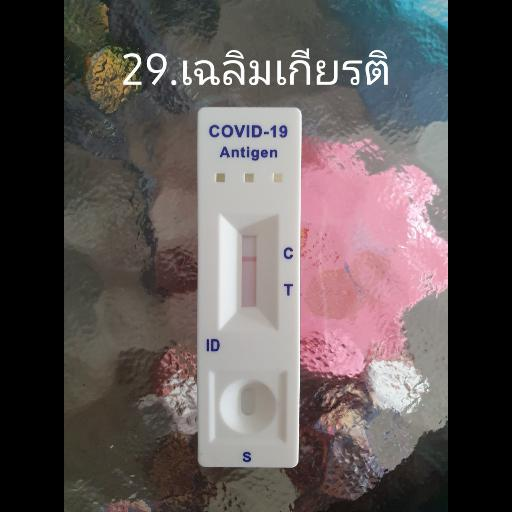Neg: (198, 106, 302, 468)
